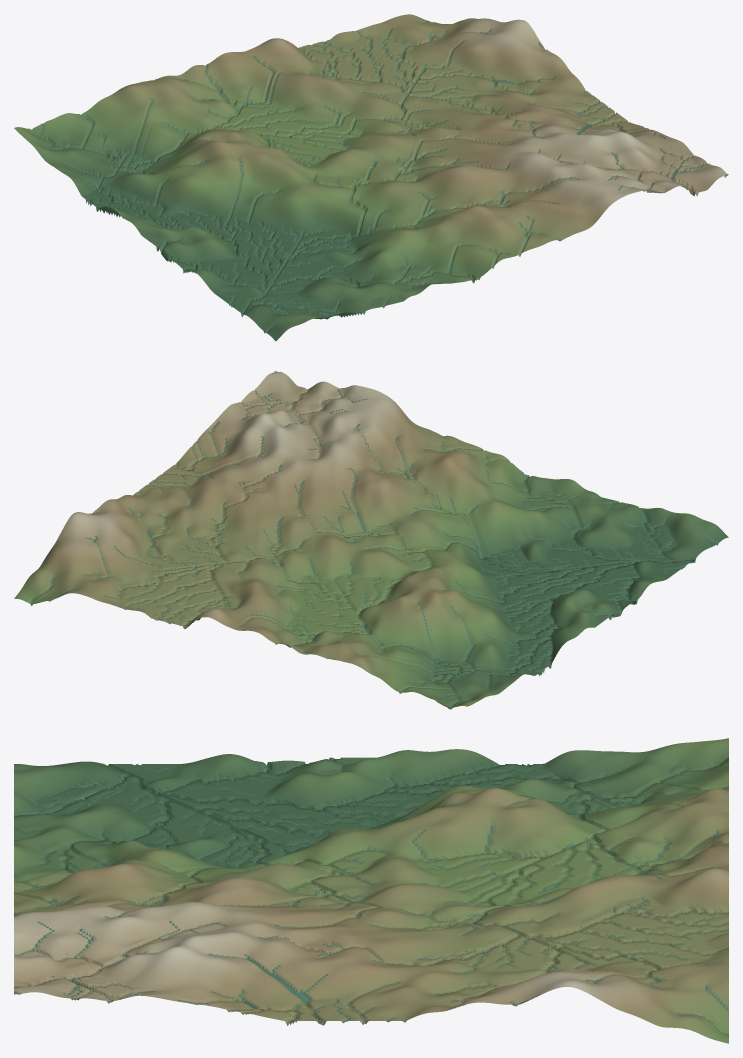
File: watershed-local-terrain-foundation-v1.glb
3 renders of one model, top to bottom at view 1: azimuth 30°, elevation 25°; view 2: azimuth 150°, elevation 25°; view 3: azimuth 270°, elevation 25°, orthographic. The views are drawn at different scales.
Visible parts, largest first — view 1: Watershed Local Terrain; view 2: Watershed Local Terrain; view 3: Watershed Local Terrain.
Boxes of the visible parts, <box> form: Watershed Local Terrain: <box>14,14,728,341</box>; Watershed Local Terrain: <box>14,370,728,709</box>; Watershed Local Terrain: <box>14,738,728,1043</box>.
Bounding box in the file's own units: 1.2 × 0.1699 × 1.2.
Materials: 1 (1 with a texture image).
